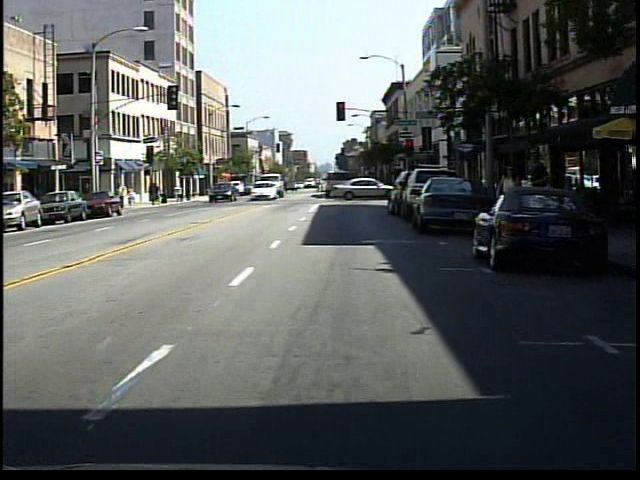person: (518, 145, 551, 249), (496, 155, 522, 245), (129, 184, 142, 211), (114, 180, 128, 203)
